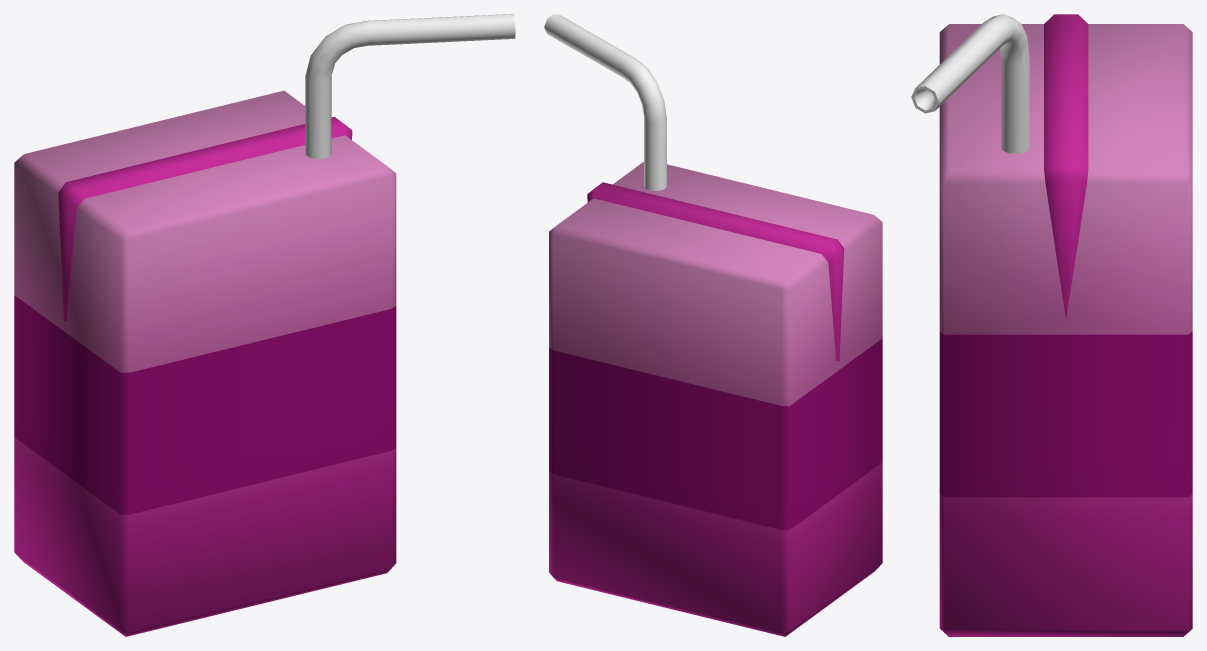
Rendered from Juice_mini_purple.fbx.
3 renders of one model, left to right at view 1: azimuth 30°, elevation 25°; view 2: azimuth 150°, elevation 25°; view 3: azimuth 270°, elevation 25°, orthographic. The views are drawn at different scales.
Parts seen in each view (by area): view 1: Juice_mini_purple, Juice_mini_purple.001; view 2: Juice_mini_purple, Juice_mini_purple.001; view 3: Juice_mini_purple, Juice_mini_purple.001.
Boxes of the visible parts, x1=… form: Juice_mini_purple: x1=14, y1=90, x2=396, y2=636; Juice_mini_purple.001: x1=305, y1=14, x2=515, y2=159; Juice_mini_purple: x1=549, y1=162, x2=882, y2=636; Juice_mini_purple.001: x1=544, y1=14, x2=666, y2=190; Juice_mini_purple: x1=939, y1=14, x2=1192, y2=636; Juice_mini_purple.001: x1=911, y1=14, x2=1029, y2=153.
Size of the model in its own units: 113 by 147 by 61.05.
